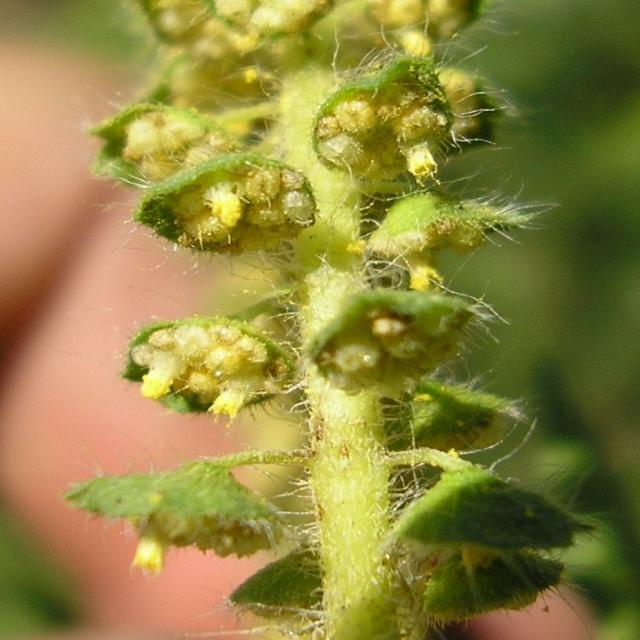ambrosia: (102, 13, 532, 624)
